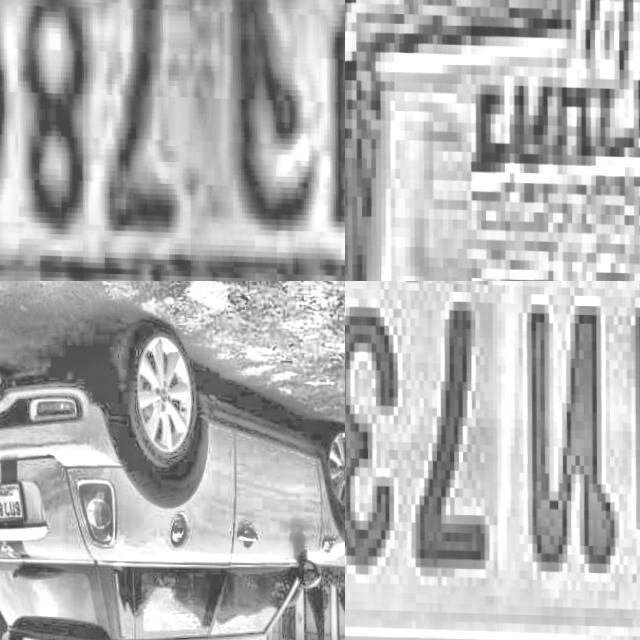license-plate: (345, 281, 640, 640), (0, 0, 345, 281), (345, 0, 640, 281), (0, 480, 26, 522)
